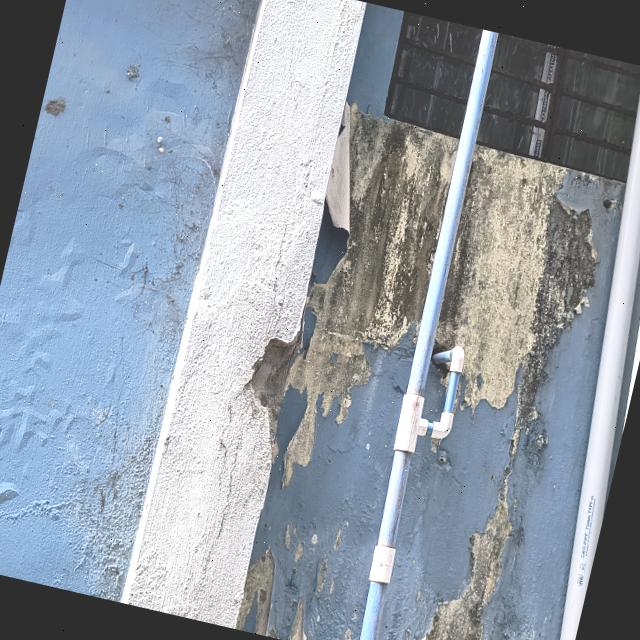Paint Peeling: (282, 103, 457, 486), (435, 146, 596, 416), (427, 391, 547, 640), (236, 522, 366, 640)
Scaling: (0, 244, 183, 598)
Spalling: (244, 331, 301, 441)
